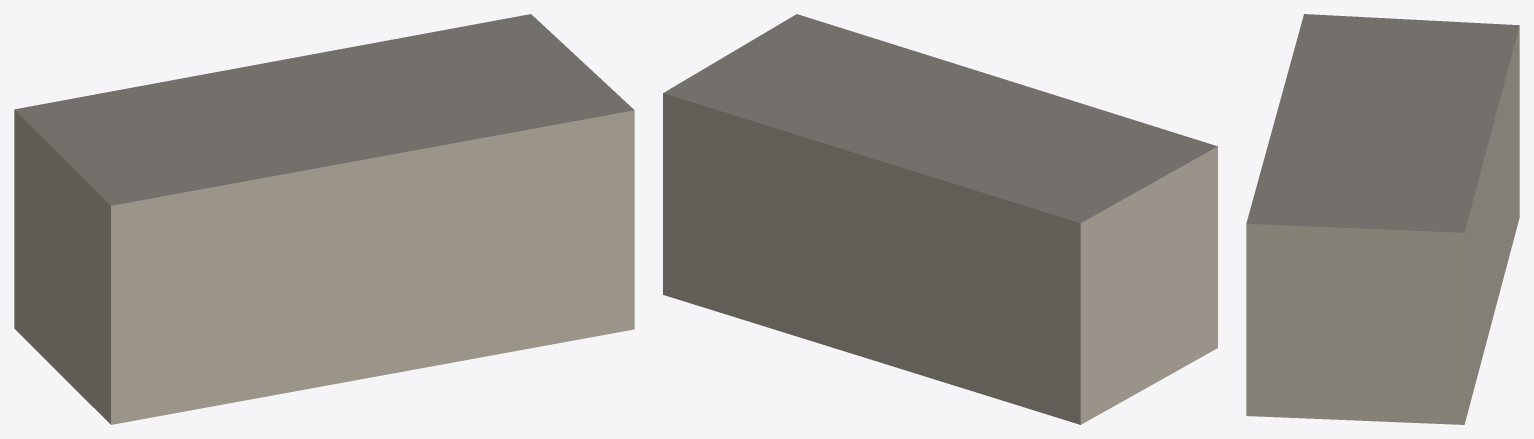
The picture shows the model from 3 angles, left to right: view 1: azimuth 30°, elevation 25°; view 2: azimuth 150°, elevation 25°; view 3: azimuth 270°, elevation 25°; orthographic projection. The views are drawn at different scales.
Visible parts, largest first — view 1: HP-w505622530; view 2: HP-w505622530; view 3: HP-w505622530.
Part boxes in pixels (x1=…): HP-w505622530: x1=14, y1=14, x2=634, y2=424; HP-w505622530: x1=663, y1=14, x2=1217, y2=424; HP-w505622530: x1=1246, y1=14, x2=1519, y2=424.
Bounding box in the file's own units: 36.64 × 15 × 19.35.
